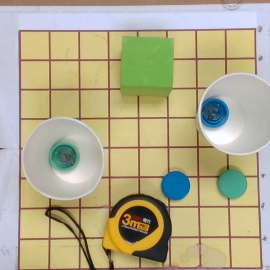blue: (160, 170, 190, 200)
cup_blue: (194, 73, 270, 156)
cup_green: (21, 117, 105, 201)
green: (217, 170, 248, 199)
